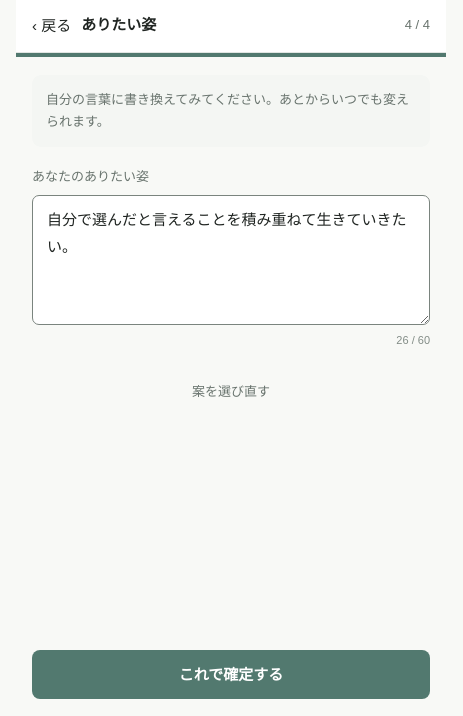
S-35 › 失敗したら同じ画面にエラーを表示し、入力内容を消さない
This screenshot has width=463, height=716.
Replace the text in the text box with id "s35-statement" with "書き直した一文" at (231,260), box [32, 195, 430, 325]
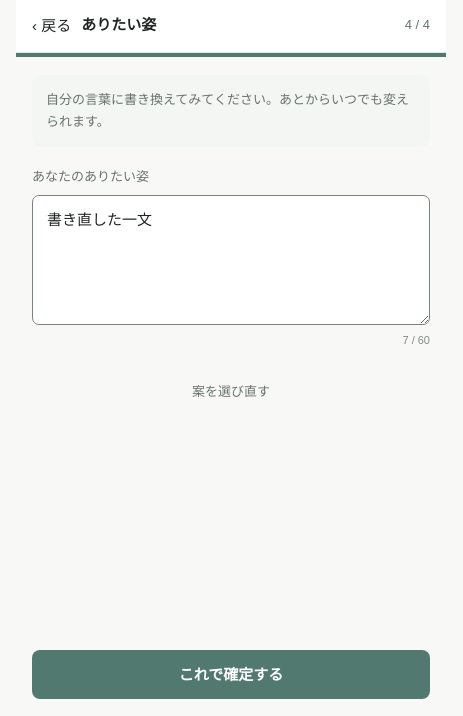
Click the button with class "app-button--primary".
click(231, 674)  # box [32, 650, 430, 699]
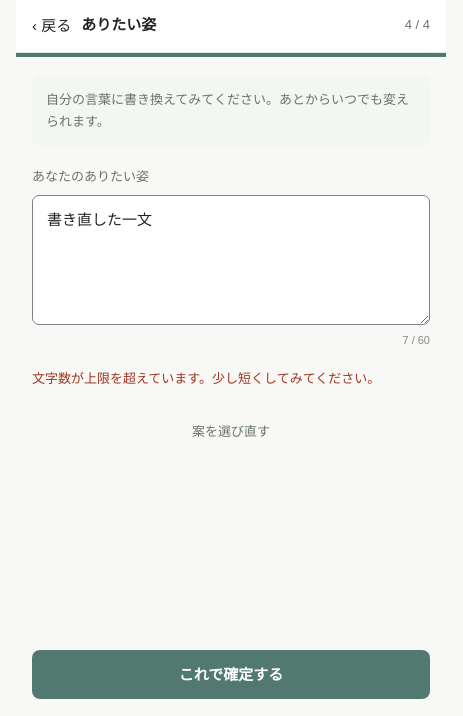
Expected: the text "文字数が上限を超えています" is shown, [32, 371, 380, 386]
